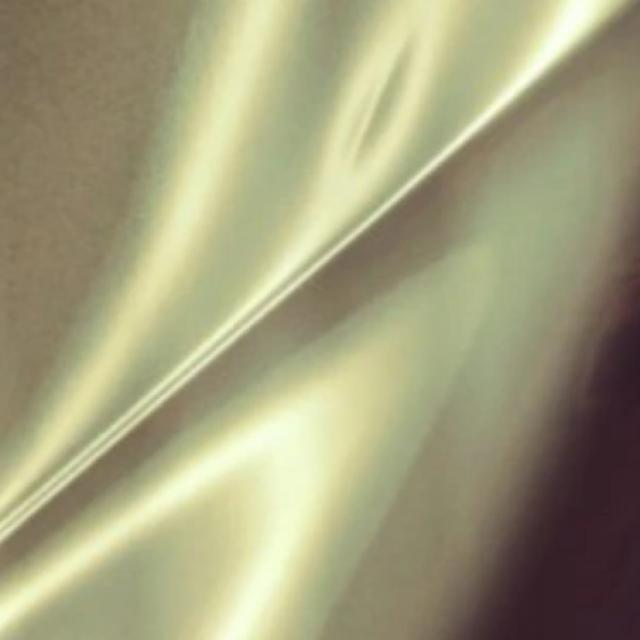dents: (319, 20, 450, 170)
